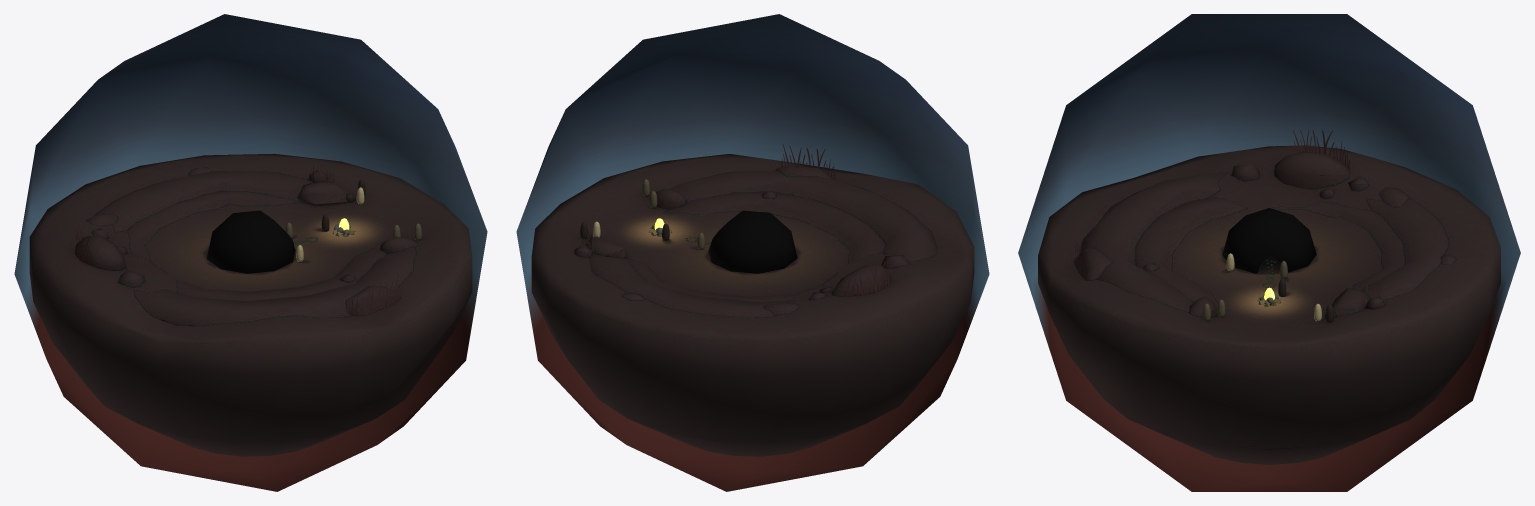
3 renders of one model, left to right at view 1: azimuth 30°, elevation 25°; view 2: azimuth 150°, elevation 25°; view 3: azimuth 270°, elevation 25°, orthographic. The views are drawn at different scales.
Parts seen in each view (by area): view 1: ground.007, envirosphere.005, lodge.005, GRASS.017; view 2: ground.007, envirosphere.005, lodge.005, GRASS.016; view 3: ground.007, envirosphere.005, lodge.005, GRASS.016.
Part boxes in pixels (box(x1,y1,x2,y2)): ground.007: box(29, 153, 472, 456); envirosphere.005: box(14, 14, 487, 491); lodge.005: box(207, 210, 295, 273); GRASS.017: box(348, 273, 401, 316); ground.007: box(531, 154, 974, 456); envirosphere.005: box(516, 14, 989, 491); lodge.005: box(708, 210, 797, 273); GRASS.016: box(843, 261, 891, 296); ground.007: box(1038, 145, 1500, 464); envirosphere.005: box(1018, 14, 1520, 491); lodge.005: box(1222, 208, 1316, 273); GRASS.016: box(1290, 130, 1349, 170).
Bounding box in the file's own units: 13.02 × 13.69 × 13.69.
Materials: 12 (3 with a texture image).
